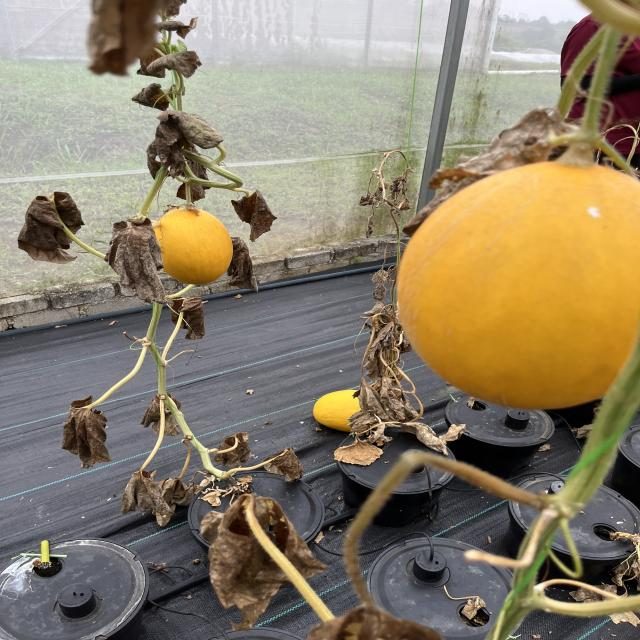bacterial wilt: (15, 192, 83, 265), (108, 220, 167, 303), (348, 380, 416, 442), (121, 470, 195, 524), (364, 305, 406, 387), (64, 401, 110, 464), (156, 110, 224, 148), (233, 189, 273, 240), (229, 238, 256, 292), (146, 52, 200, 75), (219, 432, 251, 469), (332, 444, 384, 465), (266, 454, 303, 481), (132, 85, 171, 109)
